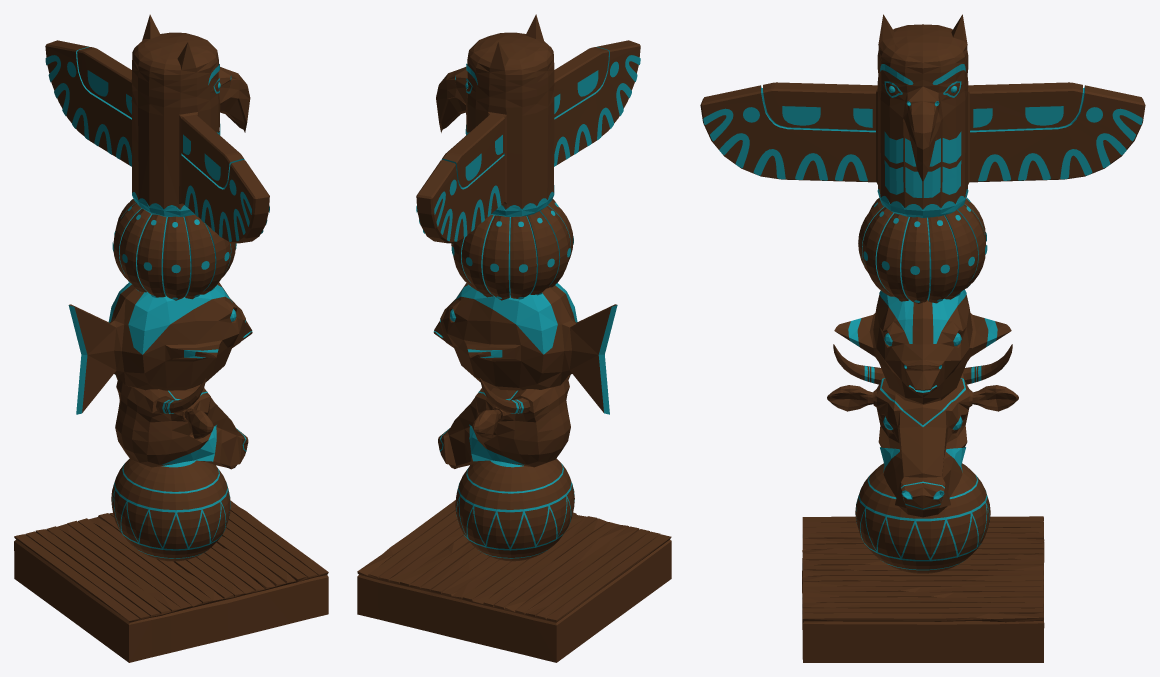
Rendered from totem.obj.
3 renders of one model, left to right at view 1: azimuth 30°, elevation 25°; view 2: azimuth 150°, elevation 25°; view 3: azimuth 270°, elevation 25°, orthographic. The views are drawn at different scales.
Visible parts, largest first — view 1: Cube.002_Cube.006, Plane_Plane.001, Cube.000_Cube.004; view 2: Cube.002_Cube.006, Plane_Plane.001, Cube.000_Cube.004; view 3: Cube.002_Cube.006, Plane_Plane.001, Cube.000_Cube.004.
Part boxes in pixels (x1,y1,x2,y2): Cube.002_Cube.006: (45,14,269,561); Plane_Plane.001: (14,500,328,662); Cube.000_Cube.004: (45,46,269,558); Cube.002_Cube.006: (416,14,640,561); Plane_Plane.001: (357,500,671,662); Cube.000_Cube.004: (416,46,640,558); Cube.002_Cube.006: (700,14,1145,573); Plane_Plane.001: (802,516,1044,662); Cube.000_Cube.004: (703,64,1142,570).
Bounding box in the file's own units: 3.75 × 10.04 × 6.79.
